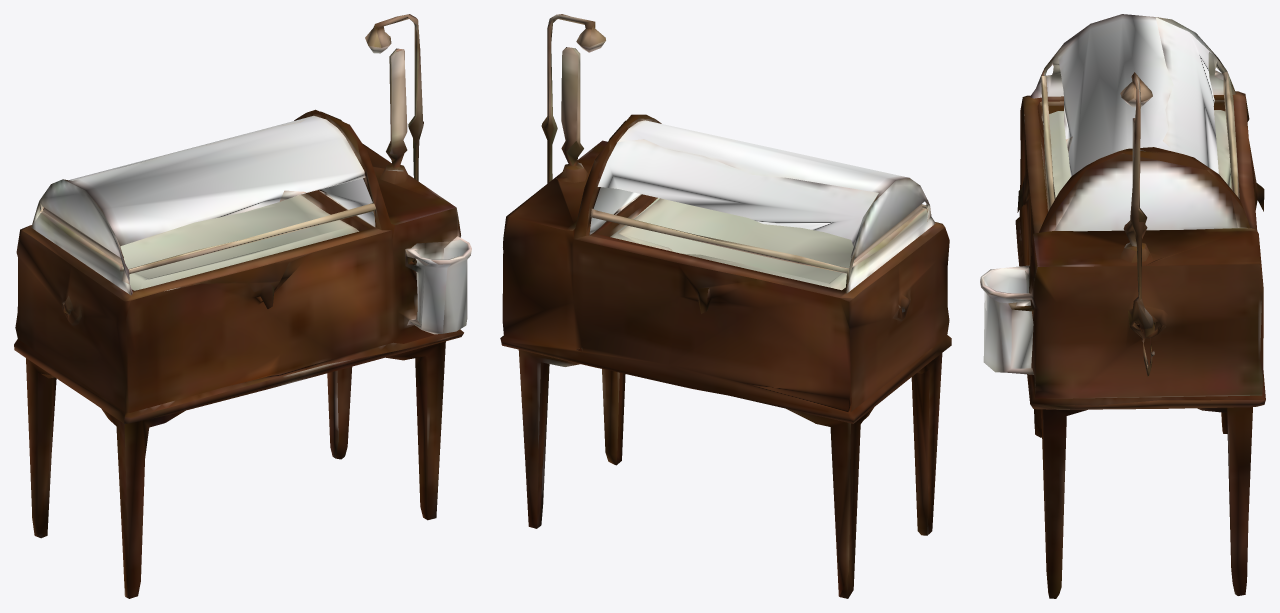
File: incubadora_1920.movil.glb
3 views of the same model, side by side, from view 1: azimuth 30°, elevation 25°; view 2: azimuth 150°, elevation 25°; view 3: azimuth 270°, elevation 25° (orthographic). The views are drawn at different scales.
Parts seen in each view (by area): view 1: geometry_0; view 2: geometry_0; view 3: geometry_0.
Part boxes in pixels (x1,y1,x2,y2): geometry_0: (14, 14, 471, 598); geometry_0: (500, 14, 951, 598); geometry_0: (980, 14, 1265, 598).
Size of the model in its own units: 0.8976 by 1.1 by 0.55.
1 material, 1 textured.
